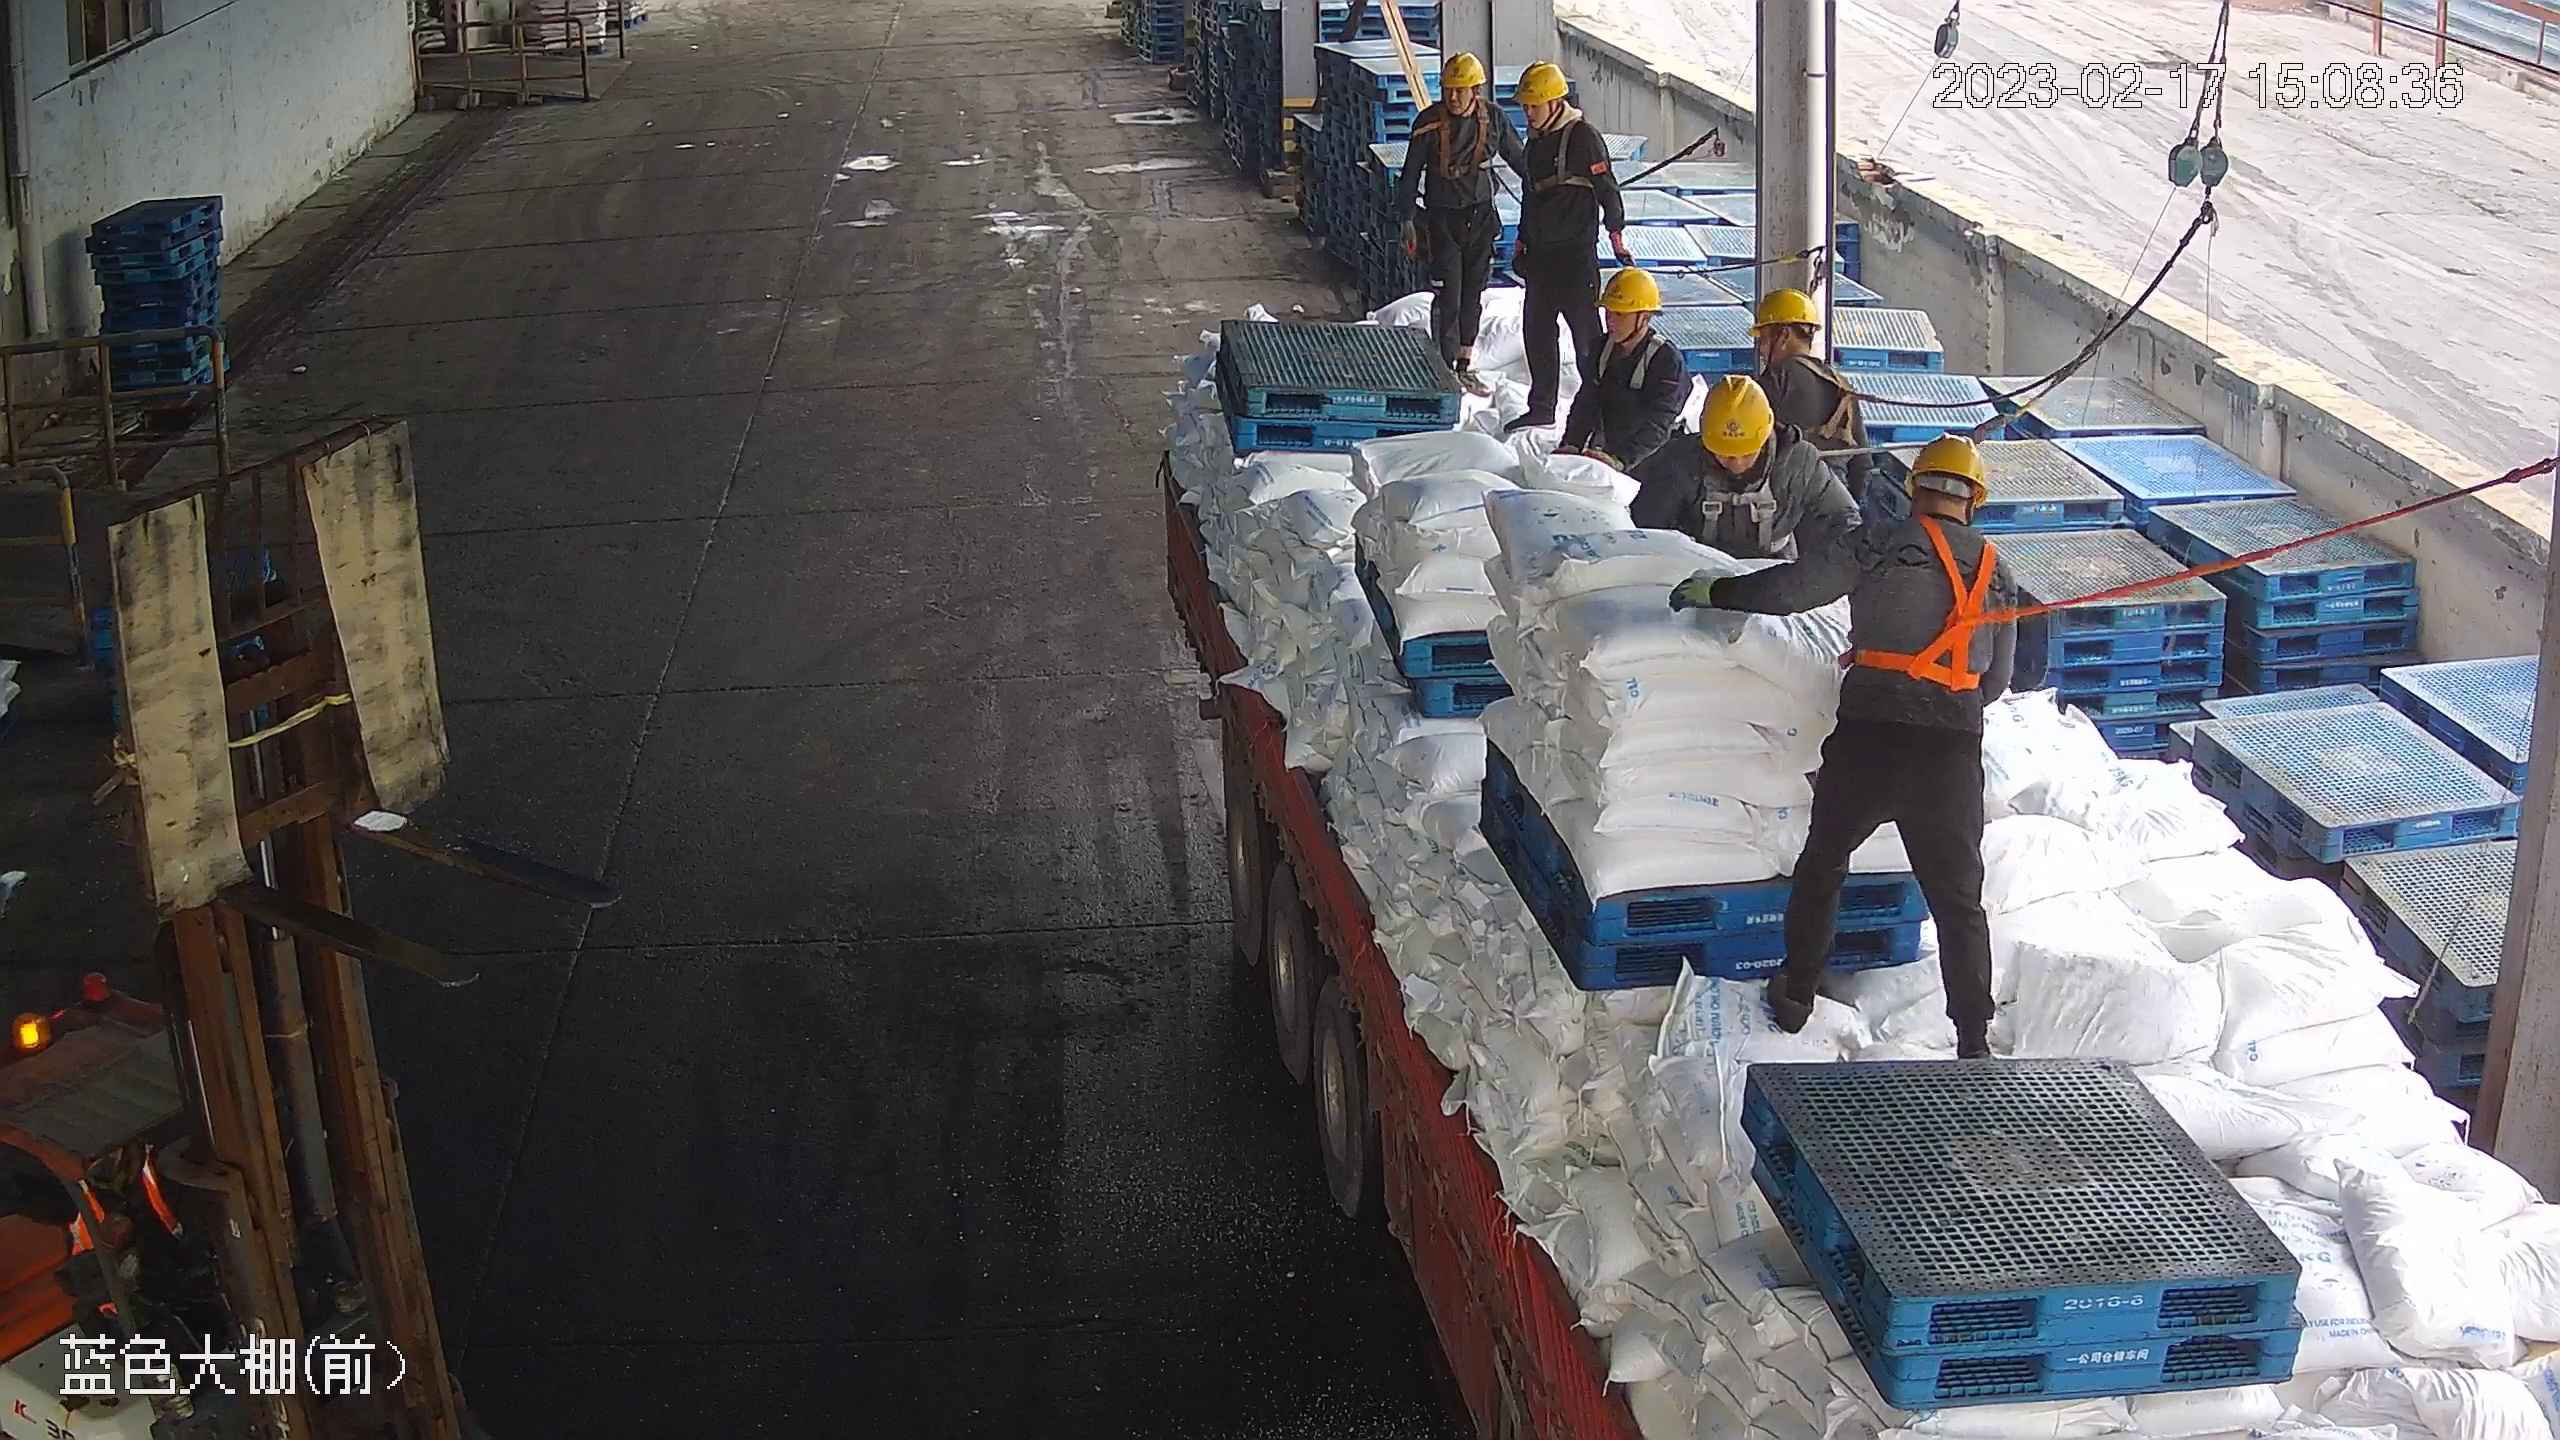belt: (1828, 508, 2013, 691), (1674, 469, 1798, 558), (1798, 353, 1885, 454), (1428, 108, 1497, 179), (1521, 121, 1589, 193), (1596, 329, 1669, 391)
head: (1815, 432, 2015, 624), (1649, 373, 1824, 524), (1729, 290, 1864, 435), (1582, 265, 1685, 400), (1512, 59, 1614, 181), (1412, 51, 1513, 162)
helmet: (1903, 433, 1995, 502), (1697, 375, 1773, 458), (1743, 290, 1824, 337), (1595, 267, 1666, 316), (1515, 59, 1573, 109), (1437, 50, 1485, 89)
people: (1669, 433, 2022, 1060), (1501, 61, 1629, 434), (1395, 52, 1526, 397)
truck: (1147, 413, 2560, 1440)
